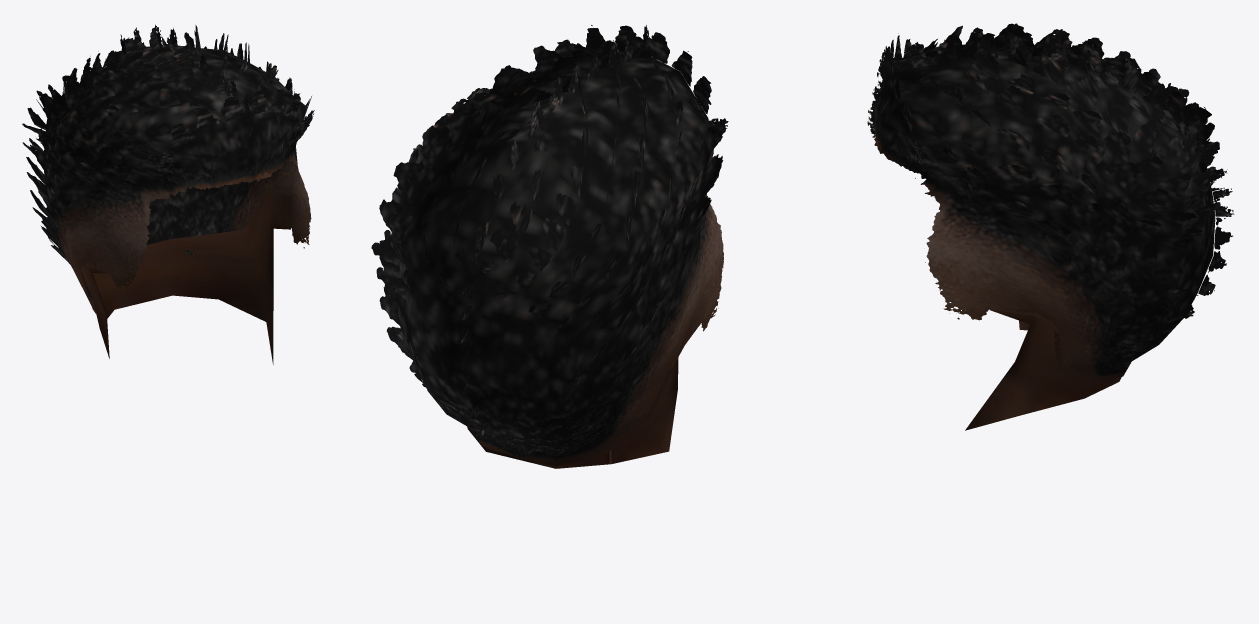
Rendered from bra-junior.glb.
3 views of the same model, side by side, from view 1: azimuth 30°, elevation 25°; view 2: azimuth 150°, elevation 25°; view 3: azimuth 270°, elevation 25° (orthographic). The views are drawn at different scales.
Visible parts, largest first — view 1: hair; view 2: hair; view 3: hair.
Part boxes in pixels (x1,y1,x2,y2): hair: (22,24,314,364); hair: (371,25,728,468); hair: (867,23,1234,430).
Bounding box in the file's own units: 0.1836 × 0.3653 × 0.2724.
Materials: 2 (2 with a texture image).
